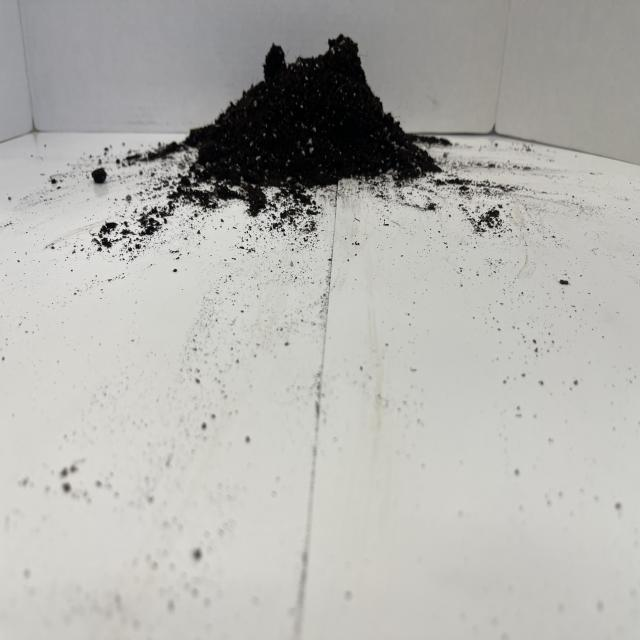soil: (130, 25, 466, 252)
